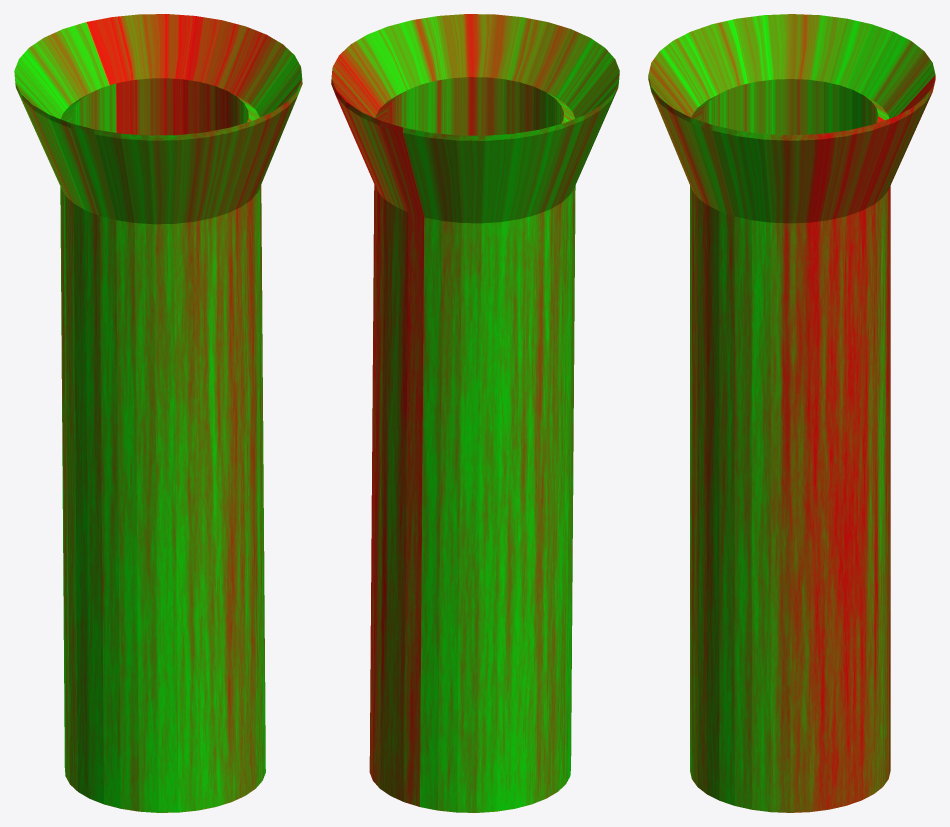
File: CannonBarrel.fbx
3 views of the same model, side by side, from view 1: azimuth 30°, elevation 25°; view 2: azimuth 150°, elevation 25°; view 3: azimuth 270°, elevation 25° (orthographic).
Visible parts, largest first — view 1: Cylinder; view 2: Cylinder; view 3: Cylinder.
Boxes of the visible parts, x1,y1,x2,y2 form: Cylinder: (14,14,302,812); Cylinder: (331,14,619,812); Cylinder: (648,14,935,812).
Size of the model in its own units: 164 by 436 by 163.
1 material, 1 textured.
